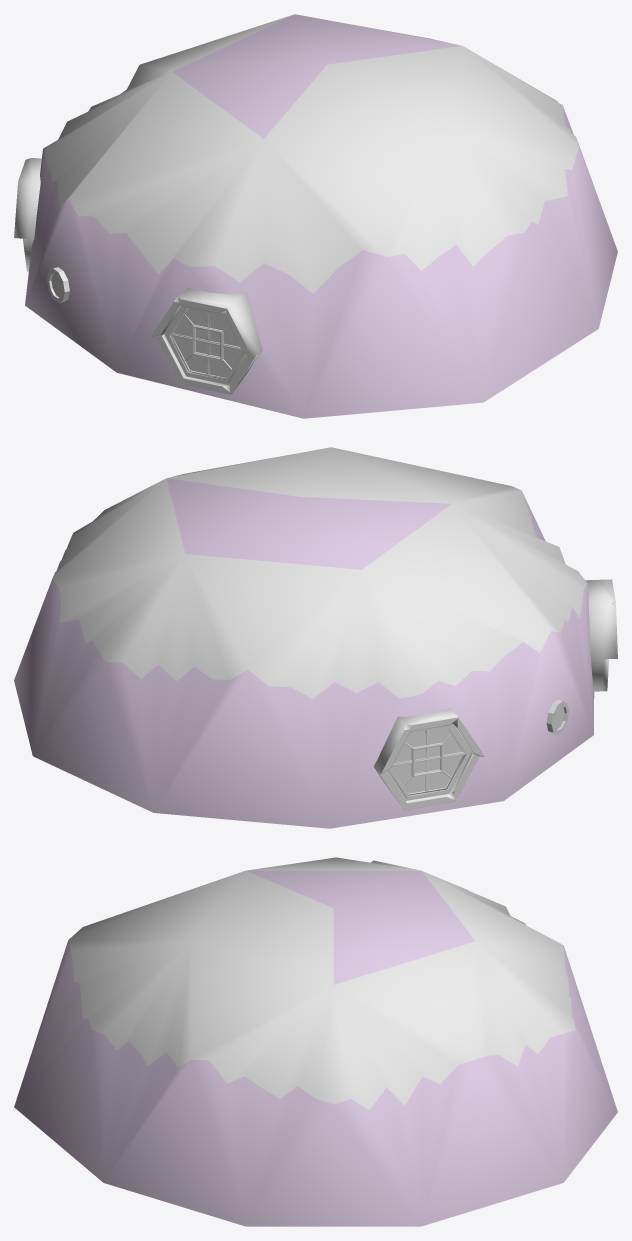
Rendered from granny house.fbx.
The picture shows the model from 3 angles, top to bottom: view 1: azimuth 30°, elevation 25°; view 2: azimuth 150°, elevation 25°; view 3: azimuth 270°, elevation 25°; orthographic projection. The views are drawn at different scales.
Parts seen in each view (by area): view 1: hill, Window.002, Window.001, Door window; view 2: hill, Window.001, Window.002, Door window; view 3: hill.
Boxes of the visible parts, left/top/right/bottom form: hill: left=25, top=14, right=617, bottom=418; Window.002: left=150, top=287, right=262, bottom=394; Window.001: left=14, top=158, right=41, bottom=271; Door window: left=47, top=267, right=69, bottom=302; hill: left=14, top=447, right=594, bottom=828; Window.001: left=373, top=708, right=484, bottom=810; Window.002: left=585, top=579, right=617, bottom=691; Door window: left=546, top=700, right=569, bottom=734; hill: left=14, top=857, right=617, bottom=1226.
Size of the model in its own units: 2244 by 890 by 2388.
